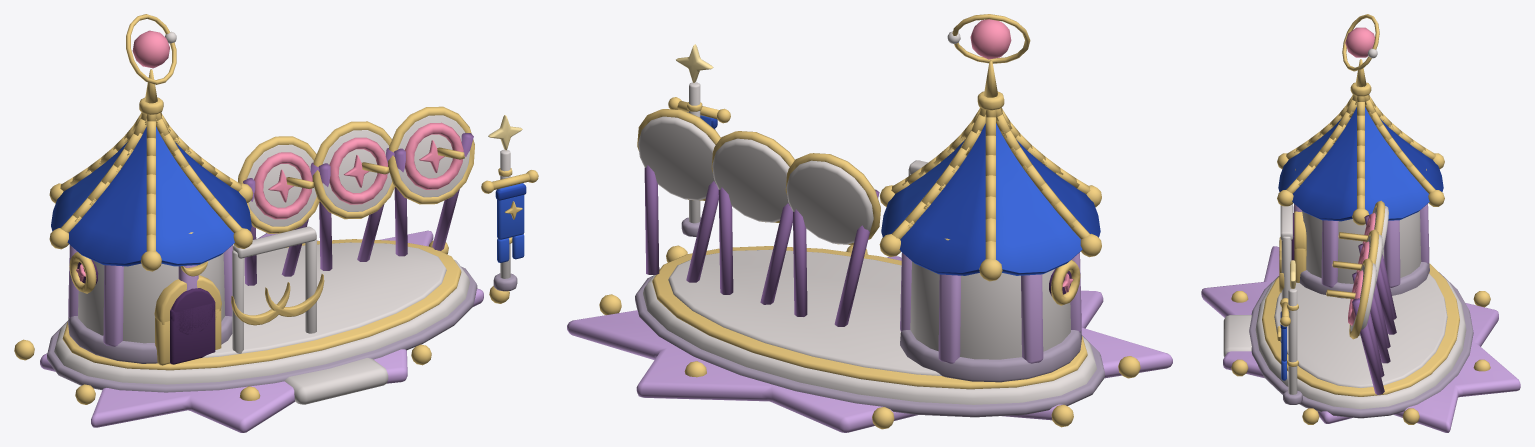
File: Range.glb
The picture shows the model from 3 angles, left to right: view 1: azimuth 30°, elevation 25°; view 2: azimuth 150°, elevation 25°; view 3: azimuth 270°, elevation 25°; orthographic projection. The views are drawn at different scales.
Parts seen in each view (by area): view 1: Range; view 2: Range; view 3: Range.
Boxes of the visible parts, <box> form: Range: <box>14,14,538,432</box>; Range: <box>567,14,1172,432</box>; Range: <box>1201,14,1520,432</box>.
Size of the model in its own units: 3.48 by 2.52 by 2.58.
